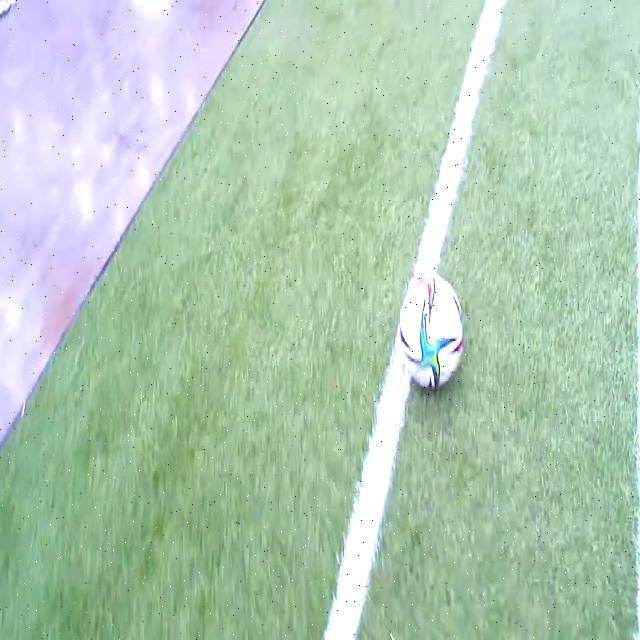ball: (399, 271, 464, 392)
